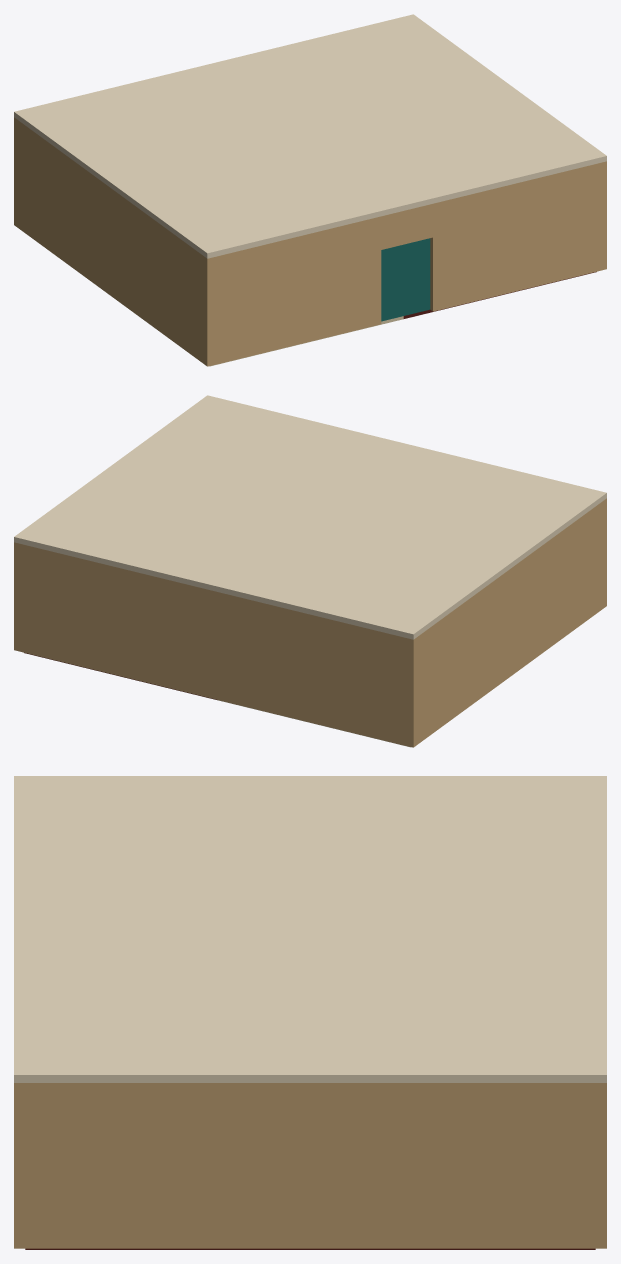
Rendered from hall_126.glb.
3 renders of one model, top to bottom at view 1: azimuth 30°, elevation 25°; view 2: azimuth 150°, elevation 25°; view 3: azimuth 270°, elevation 25°, orthographic. The views are drawn at different scales.
Parts seen in each view (by area): view 1: hall_126 ceiling, hall_126 wall, hall_126 glass; view 2: hall_126 ceiling, hall_126 wall; view 3: hall_126 ceiling, hall_126 wall, hall_126 carpet.
Part boxes in pixels (x1,y1,x2,y2): hall_126 ceiling: (14, 14, 606, 258); hall_126 wall: (14, 117, 606, 366); hall_126 glass: (381, 238, 430, 321); hall_126 ceiling: (14, 395, 606, 639); hall_126 wall: (14, 498, 606, 747); hall_126 ceiling: (14, 776, 606, 1082); hall_126 wall: (14, 1083, 606, 1248); hall_126 carpet: (25, 1248, 595, 1249).
Size of what is drawn, in the model's own units: 12.4 by 3.48 by 10.4.
